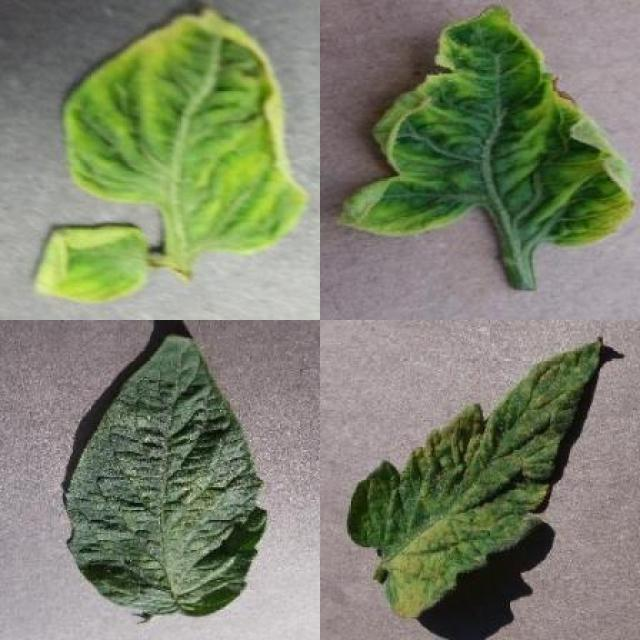Leaf Mold: (345, 337, 604, 622)
Spider Mites: (64, 333, 270, 616)
Yellow Leaf Curl Virus: (330, 5, 636, 249), (61, 12, 312, 258), (32, 226, 149, 304)
